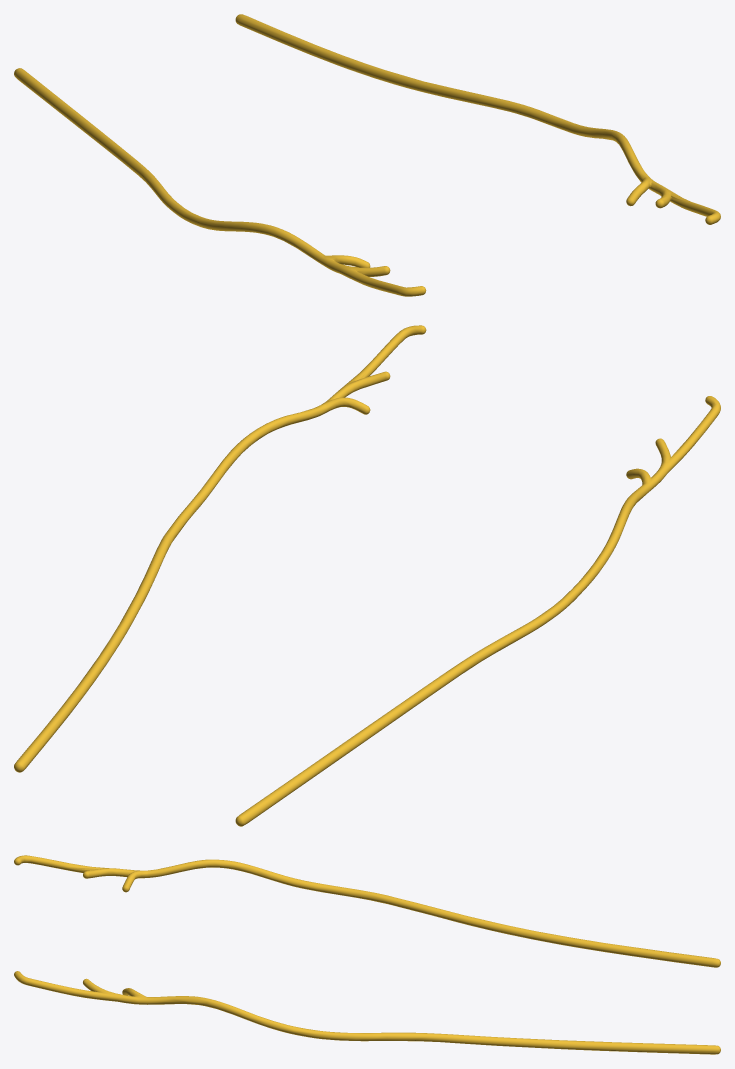
File: trochlear.glb
3 renders of one model, top to bottom at view 1: azimuth 30°, elevation 25°; view 2: azimuth 150°, elevation 25°; view 3: azimuth 270°, elevation 25°, orthographic. The views are drawn at different scales.
Parts seen in each view (by area): view 1: grp1; view 2: grp1; view 3: grp1.
Part boxes in pixels (bbox=[...]): grp1: bbox=[14, 14, 720, 296]; grp1: bbox=[14, 325, 720, 826]; grp1: bbox=[14, 855, 720, 1054].
Size of the model in its own units: 0.0402 by 0.0118 by 0.0791.
